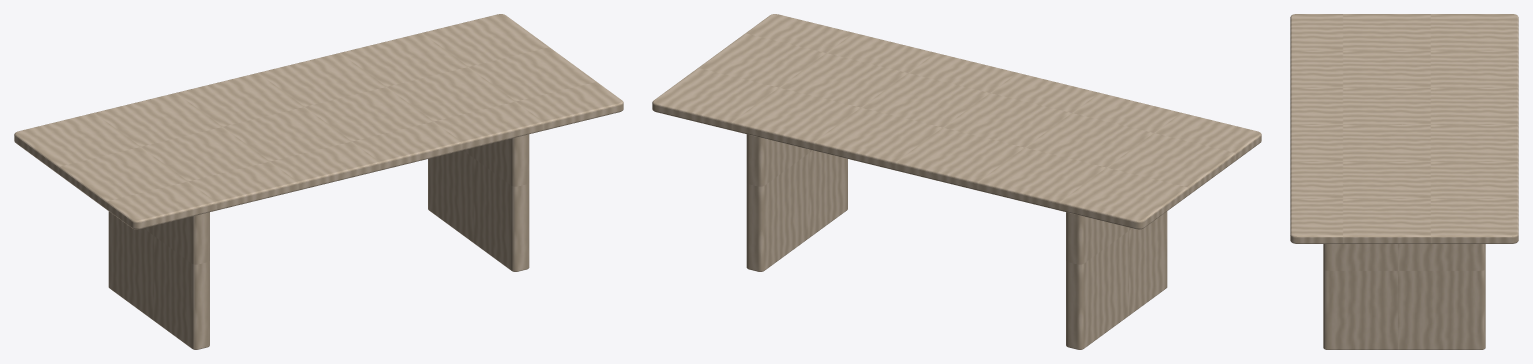
Rendered from kowhai-hero-din-01.glb.
3 renders of one model, left to right at view 1: azimuth 30°, elevation 25°; view 2: azimuth 150°, elevation 25°; view 3: azimuth 270°, elevation 25°, orthographic. The views are drawn at different scales.
Visible parts, largest first — view 1: DiningTable_BullnoseTop, DiningTable_SlabLeg_1, DiningTable_SlabLeg_2; view 2: DiningTable_BullnoseTop, DiningTable_SlabLeg_1, DiningTable_SlabLeg_2; view 3: DiningTable_BullnoseTop, DiningTable_SlabLeg_2.
Part boxes in pixels (box(x1,y1,x2,y2)): DiningTable_BullnoseTop: box(14, 14, 623, 229); DiningTable_SlabLeg_1: box(108, 211, 209, 349); DiningTable_SlabLeg_2: box(428, 134, 529, 271); DiningTable_BullnoseTop: box(652, 14, 1261, 229); DiningTable_SlabLeg_1: box(1066, 211, 1167, 349); DiningTable_SlabLeg_2: box(746, 134, 847, 271); DiningTable_BullnoseTop: box(1290, 14, 1518, 243); DiningTable_SlabLeg_2: box(1323, 244, 1485, 349).
Size of the model in its own units: 2.4 by 0.75 by 1.04.
Materials: 1 (1 with a texture image).
